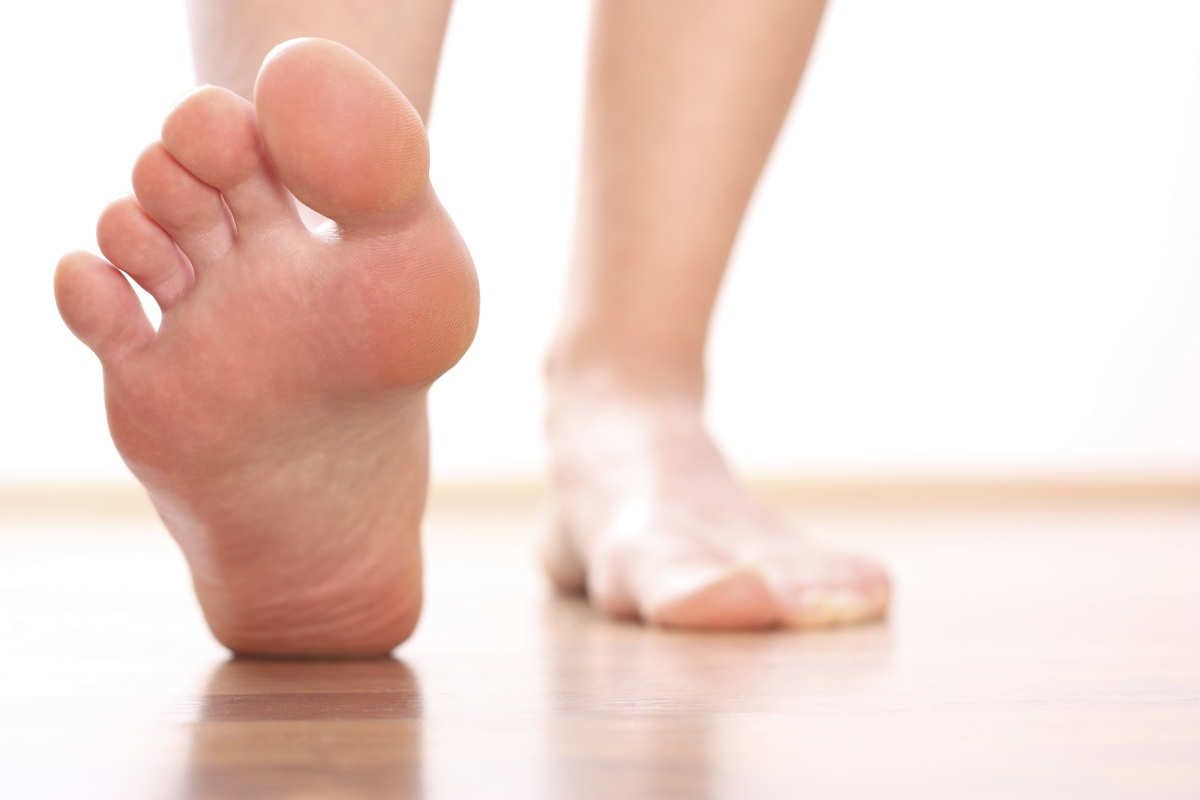feet: (500, 289, 901, 635)
